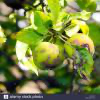Apple Scab Leaf: (72, 45, 94, 84)
